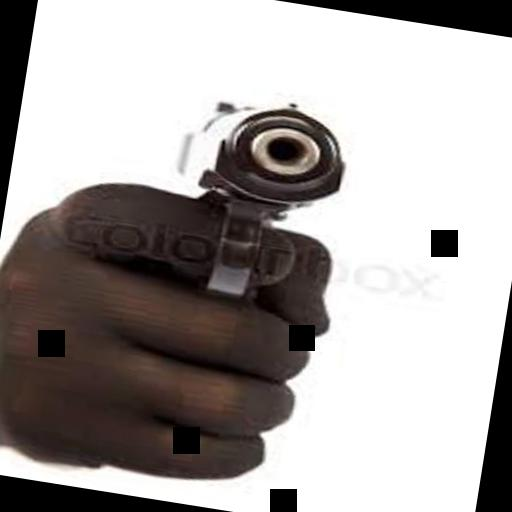Handgun: (154, 80, 368, 324)
